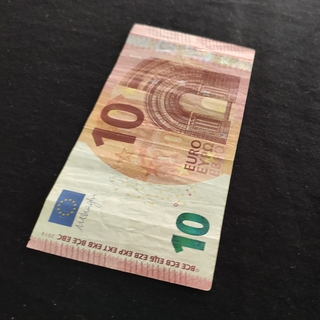10EUROFront: (26, 23, 255, 292)
